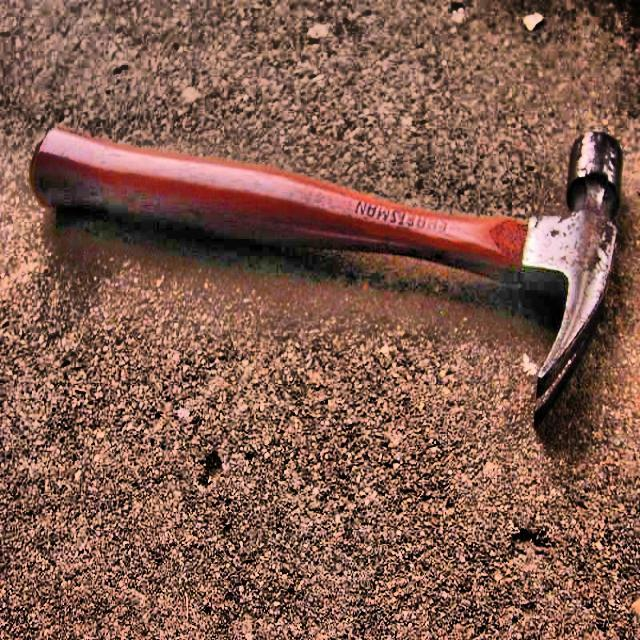hammer: (28, 130, 624, 426)
